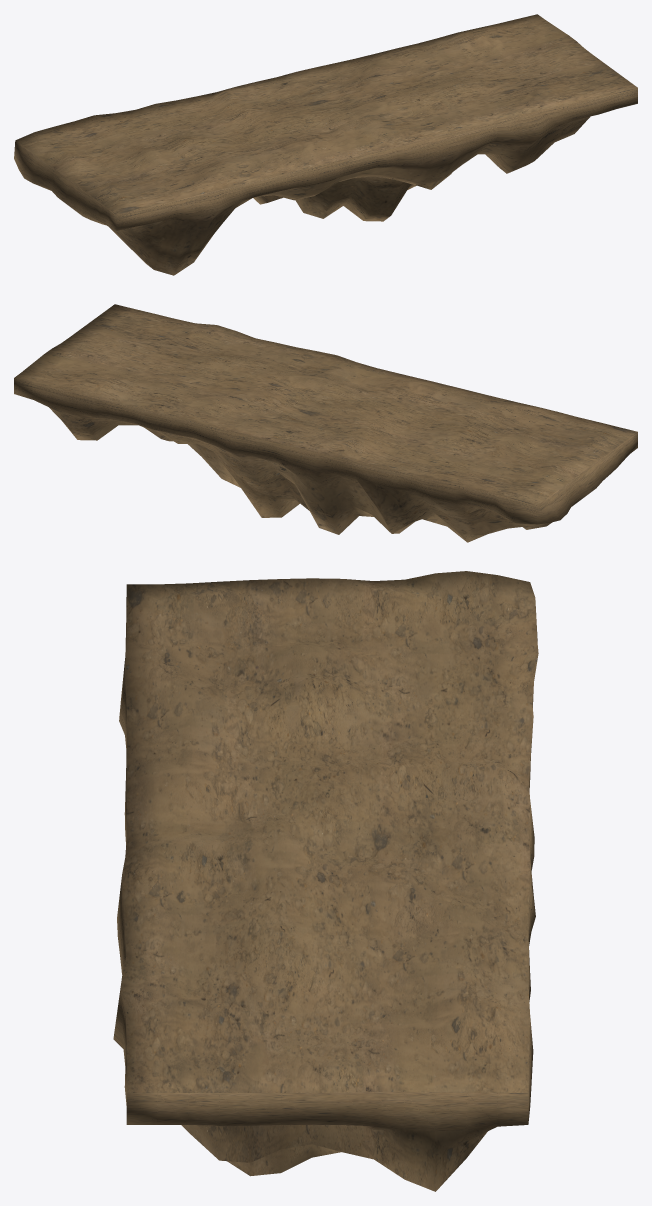
File: BigIsland.obj
3 views of the same model, one above another, from view 1: azimuth 30°, elevation 25°; view 2: azimuth 150°, elevation 25°; view 3: azimuth 270°, elevation 25° (orthographic). The views are drawn at different scales.
Visible parts, largest first — view 1: EarthPatchLarge; view 2: EarthPatchLarge; view 3: EarthPatchLarge.
Boxes of the visible parts, <box> form: EarthPatchLarge: <box>14,14,637,275</box>; EarthPatchLarge: <box>14,304,637,542</box>; EarthPatchLarge: <box>113,571,538,1191</box>.
Bounding box in the file's own units: 79.01 × 19.17 × 27.4.
